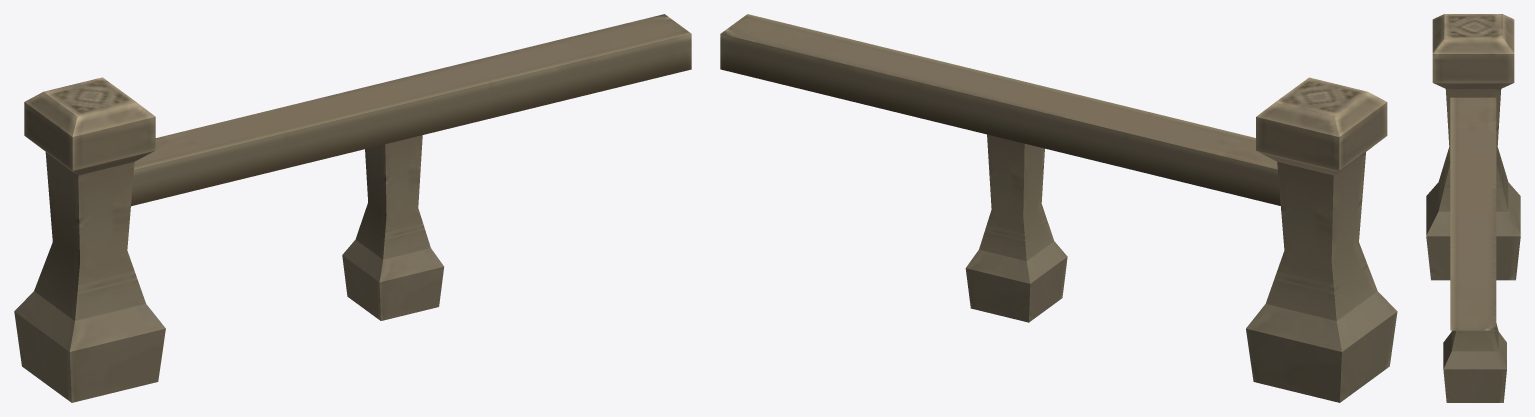
The model's file is fence_7.FBX.
The picture shows the model from 3 angles, left to right: view 1: azimuth 30°, elevation 25°; view 2: azimuth 150°, elevation 25°; view 3: azimuth 270°, elevation 25°; orthographic projection. The views are drawn at different scales.
Visible parts, largest first — view 1: fence_7; view 2: fence_7; view 3: fence_7.
Part boxes in pixels (left/top/right/bottom): fence_7: left=14, top=14, right=691, bottom=402; fence_7: left=720, top=14, right=1397, bottom=402; fence_7: left=1426, top=14, right=1520, bottom=402.
Bounding box in the file's own units: 42.4 × 17.81 × 6.41.
